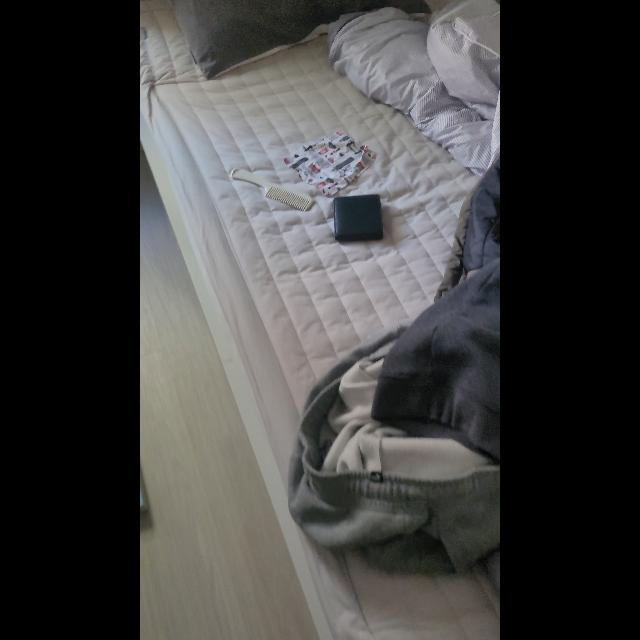COMB: (230, 168, 314, 210)
Glasses cleaning cloth: (284, 130, 376, 197)
WALLET: (333, 193, 383, 241)
